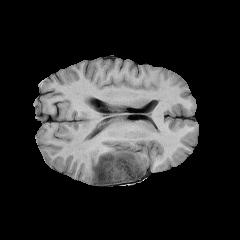glioma: (92, 150, 142, 183)
